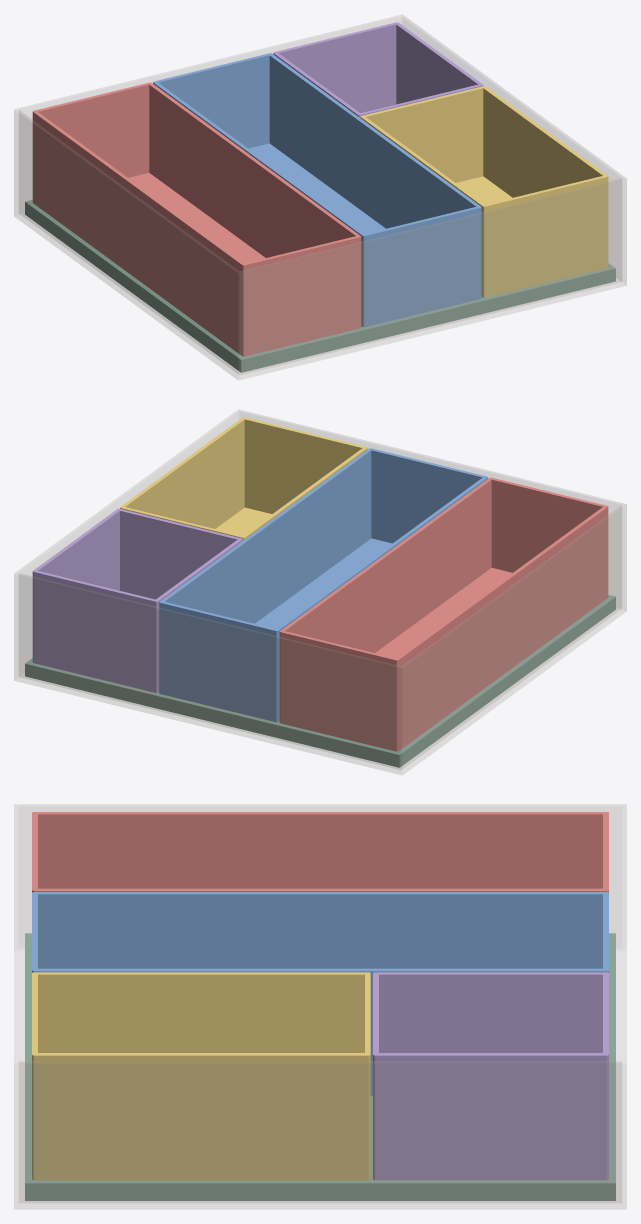
Rendered from organizer.glb.
3 renders of one model, top to bottom at view 1: azimuth 30°, elevation 25°; view 2: azimuth 150°, elevation 25°; view 3: azimuth 270°, elevation 25°, orthographic. The views are drawn at different scales.
Parts seen in each view (by area): view 1: Game box (preview only), Red Player Kit, Blue Player Kit, Shared Supply: Dice, Shared Supply: Battle Tokens, Folded game board (not printed); view 2: Game box (preview only), Red Player Kit, Blue Player Kit, Shared Supply: Battle Tokens, Shared Supply: Dice, Folded game board (not printed); view 3: Game box (preview only), Shared Supply: Dice, Shared Supply: Battle Tokens, Blue Player Kit, Red Player Kit, Folded game board (not printed).
Part boxes in pixels (left/top/right/bottom): Game box (preview only): left=14, top=14, right=626, bottom=380; Red Player Kit: left=32, top=82, right=361, bottom=356; Blue Player Kit: left=153, top=53, right=481, bottom=327; Shared Supply: Dice: left=360, top=86, right=608, bottom=297; Shared Supply: Battle Tokens: left=273, top=22, right=483, bottom=117; Folded game board (not printed): left=25, top=200, right=615, bottom=372; Game box (preview only): left=14, top=409, right=626, bottom=775; Red Player Kit: left=279, top=477, right=608, bottom=751; Blue Player Kit: left=159, top=448, right=487, bottom=722; Shared Supply: Battle Tokens: left=32, top=508, right=242, bottom=692; Shared Supply: Dice: left=120, top=417, right=367, bottom=540; Folded game board (not printed): left=25, top=595, right=615, bottom=767; Game box (preview only): left=14, top=804, right=626, bottom=1209; Shared Supply: Dice: left=32, top=972, right=370, bottom=1180; Shared Supply: Battle Tokens: left=373, top=972, right=608, bottom=1180; Blue Player Kit: left=32, top=892, right=608, bottom=1095; Red Player Kit: left=32, top=812, right=608, bottom=892; Folded game board (not printed): left=25, top=933, right=615, bottom=1200.
Size of the model in its own units: 0.254 by 0.067 by 0.254.
